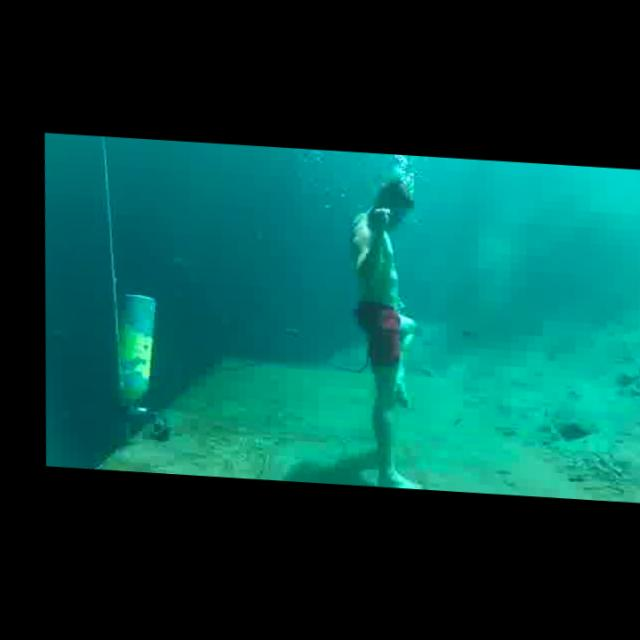human: (325, 171, 439, 490)
